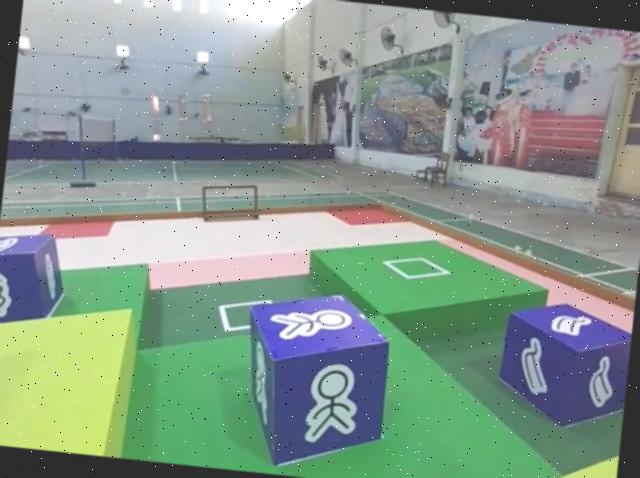R2 Real Blue: (233, 288, 397, 478), (494, 298, 634, 436), (0, 228, 70, 342)
